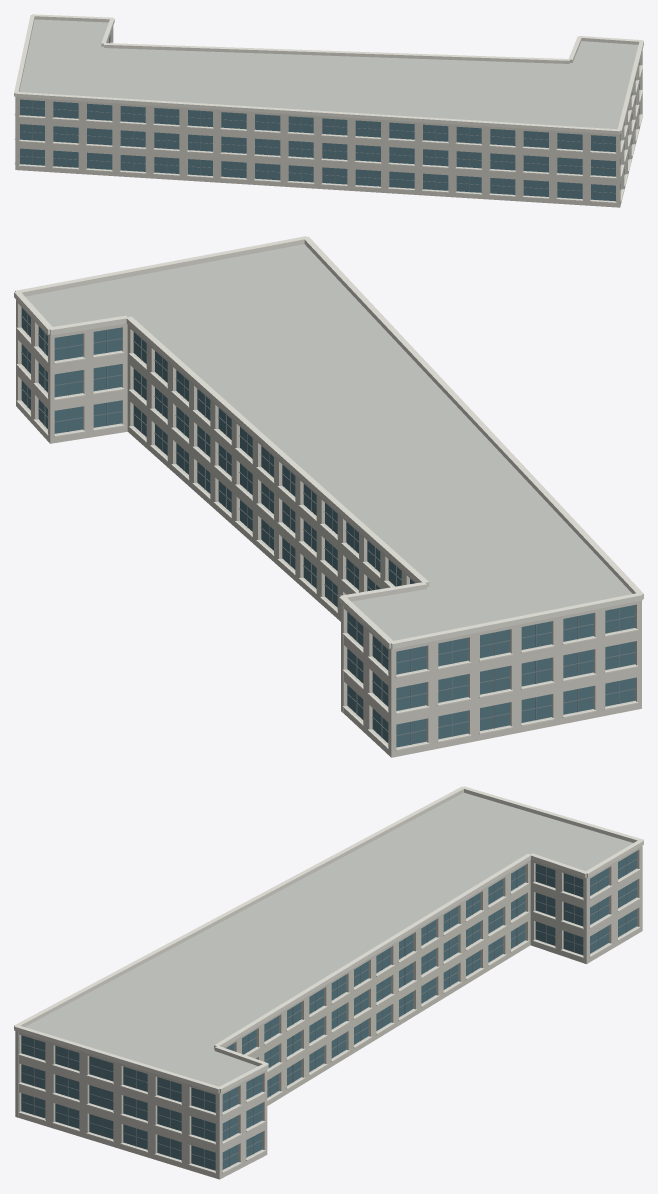
The picture shows the model from 3 angles, top to bottom: view 1: azimuth 30°, elevation 25°; view 2: azimuth 150°, elevation 25°; view 3: azimuth 270°, elevation 25°; orthographic projection. The views are drawn at different scales.
Parts seen in each view (by area): view 1: roof, wall, glass, trim, metal; view 2: roof, wall, glass, trim, metal; view 3: roof, wall, glass, trim, metal.
Boxes of the visible parts, bbox=[...] form: roof: bbox=[19, 19, 638, 129]; wall: bbox=[15, 26, 642, 207]; glass: bbox=[20, 36, 639, 201]; trim: bbox=[14, 14, 643, 203]; metal: bbox=[19, 34, 636, 200]; roof: bbox=[25, 244, 632, 640]; wall: bbox=[16, 300, 641, 757]; glass: bbox=[21, 307, 635, 747]; trim: bbox=[14, 236, 643, 750]; metal: bbox=[21, 314, 635, 744]; roof: bbox=[25, 792, 632, 1086]; wall: bbox=[15, 846, 642, 1179]; glass: bbox=[21, 851, 636, 1170]; trim: bbox=[14, 786, 643, 1173]; metal: bbox=[21, 857, 636, 1167].
Size of the model in its own units: 69.64 by 9.74 by 61.19.
